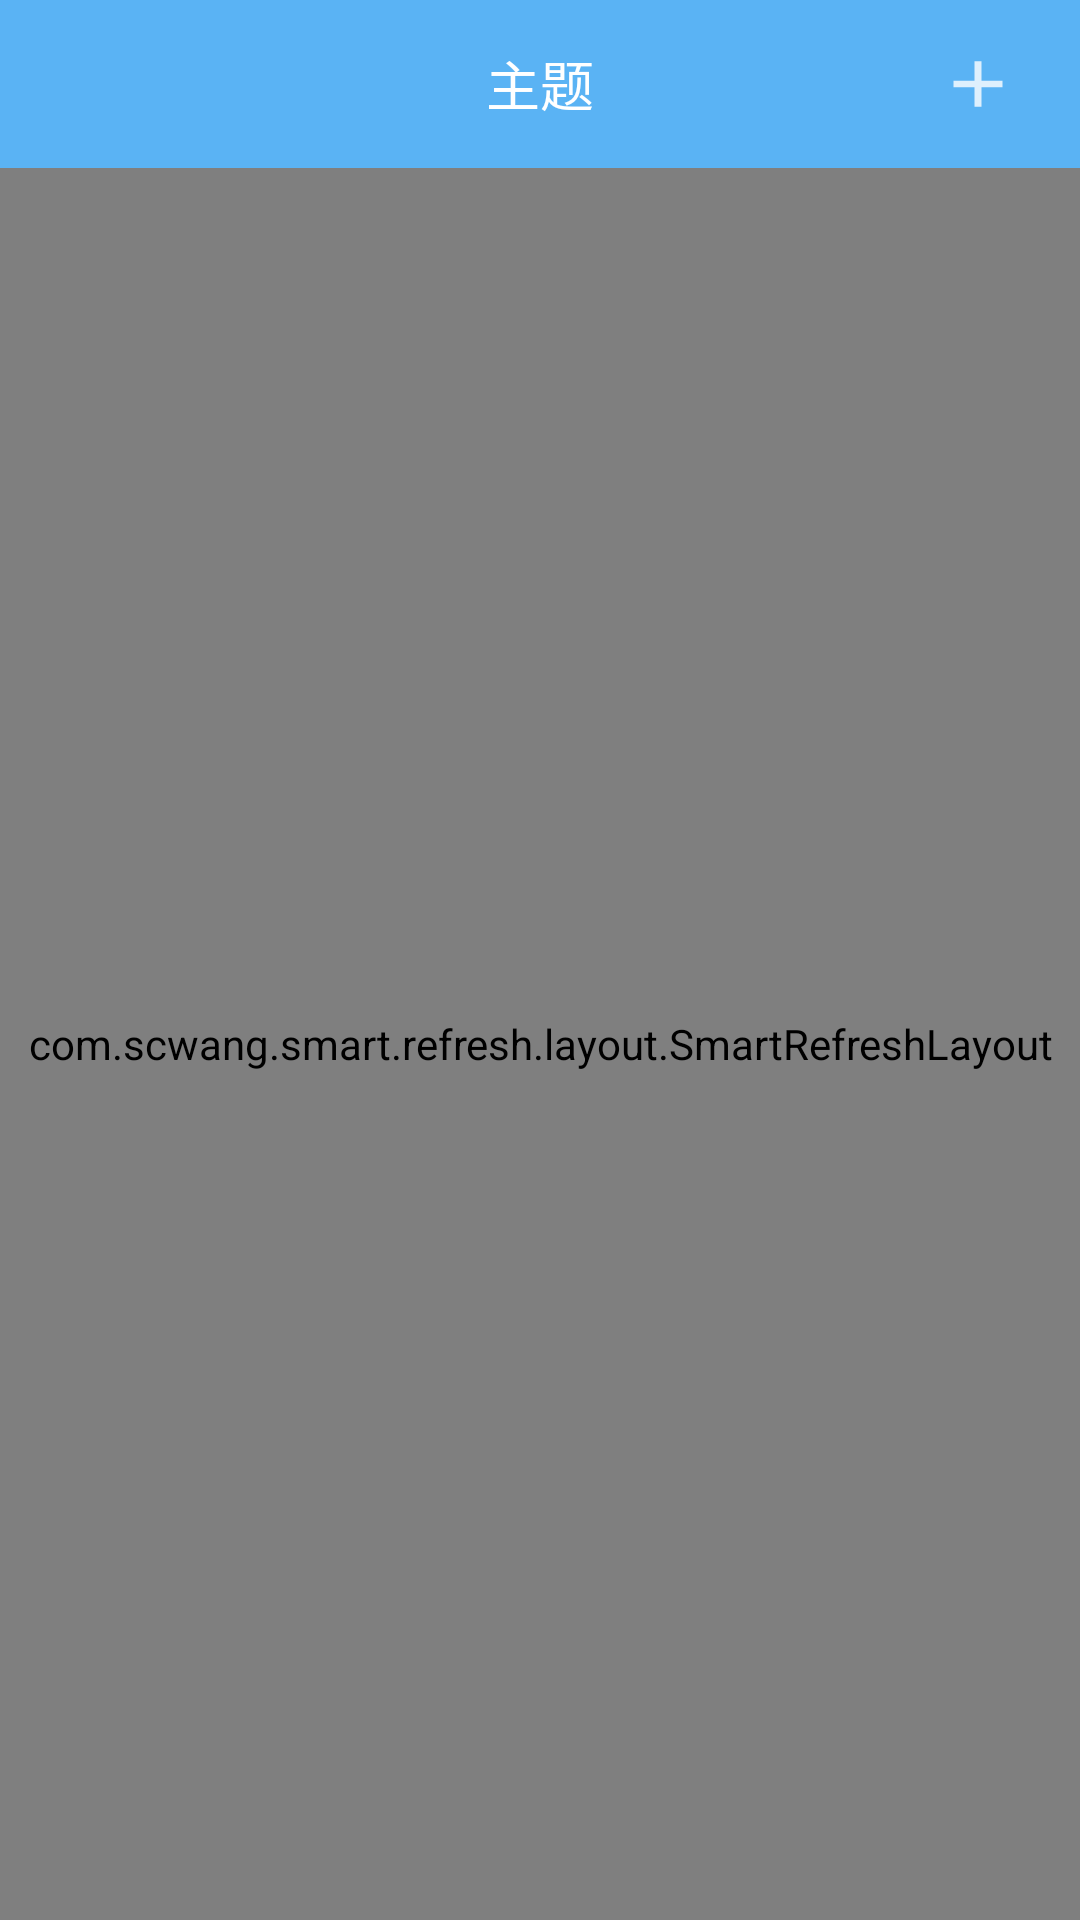

Named icons in this screenshot (1080×1920) and their bounding boxes, (x1=x1, y1=y1, x2=x2, y2=y2):
vote add: (x1=953, y1=61, x2=1003, y2=107)
